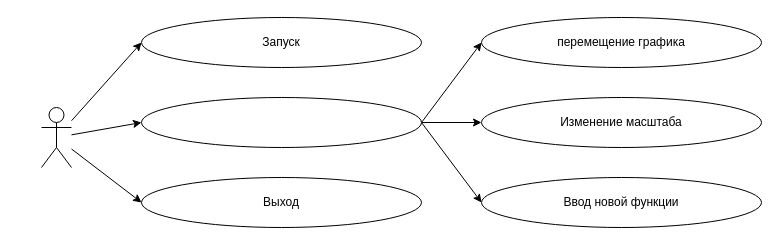
The diagram is 779 pixels wide and 245 high, and some of its shapes have lost their labels. The shapes that lost their labels are listed below. From the top down, each one's centre as x and y in pixels, then its label:
At [56,137]: "Пользователь".
At [281,122]: "Ввод функции для визуализации".
